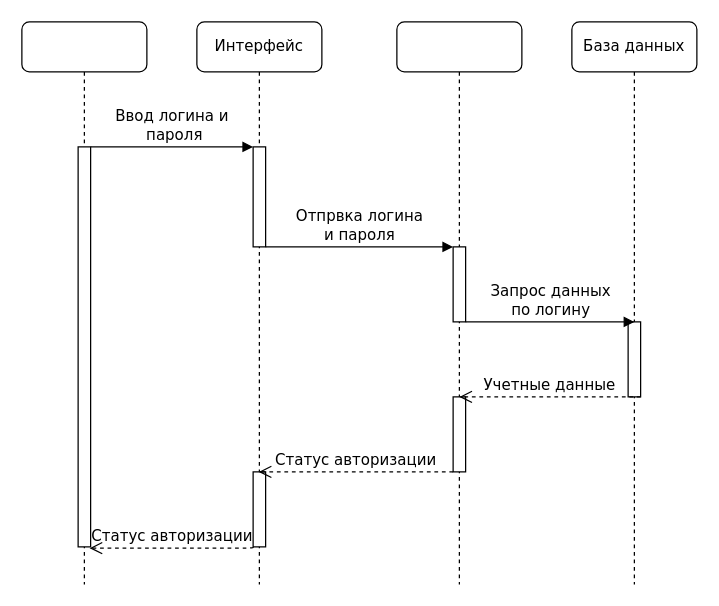
The diagram is 719 pixels wide and 606 high, and some of its shapes have lost their labels. The shapes that lost their labels are listed below. From the top down, each one's box as (x1, y1, x2, y2) in pixels, then its label:
(21, 21, 147, 584): Пользователь
(396, 21, 522, 584): Сервис авторизации
